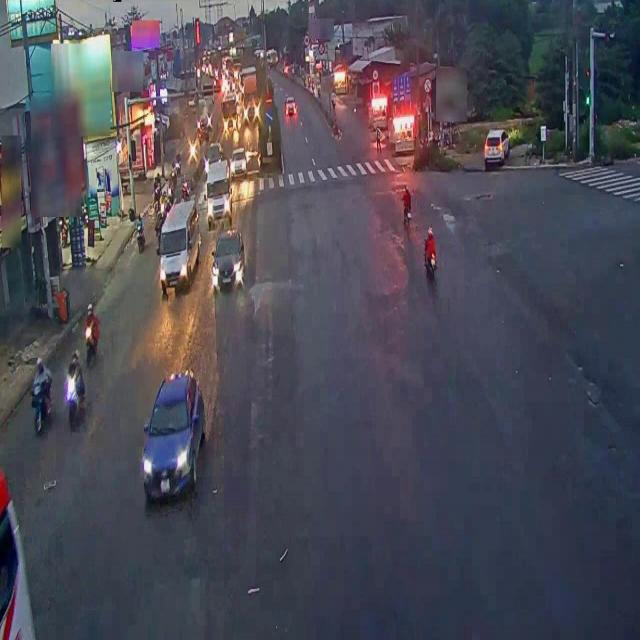car: (144, 371, 210, 505), (212, 231, 244, 300)
motorcycle: (30, 354, 54, 437), (64, 354, 86, 434)
truck: (158, 200, 202, 295)
